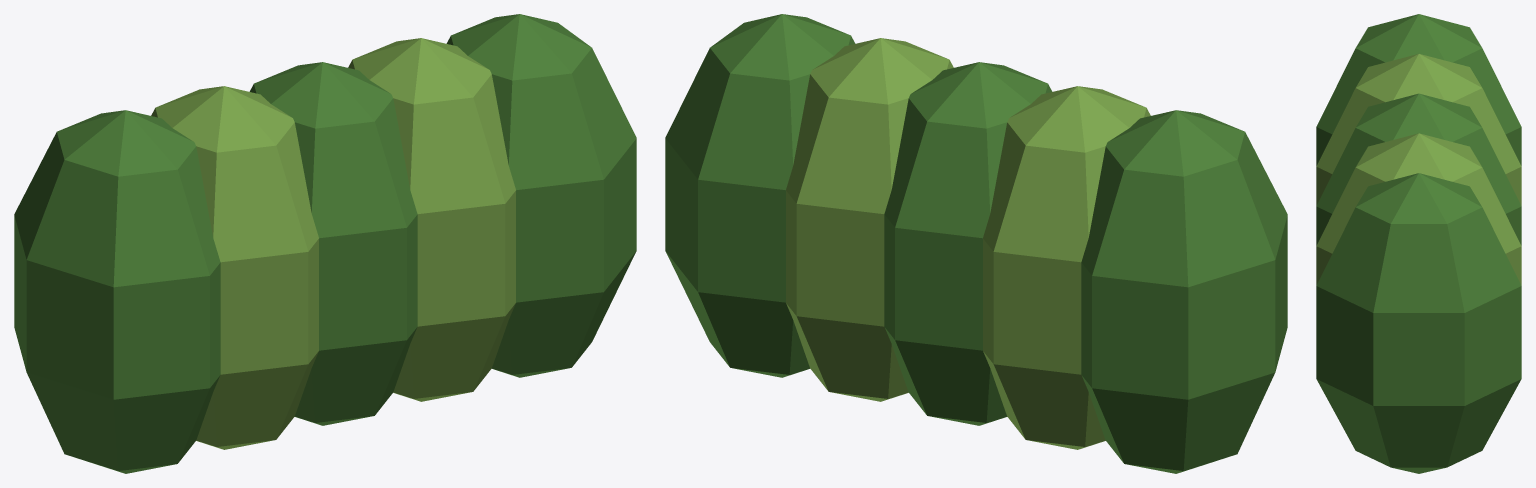
The model's file is Hedge.obj.
The picture shows the model from 3 angles, left to right: view 1: azimuth 30°, elevation 25°; view 2: azimuth 150°, elevation 25°; view 3: azimuth 270°, elevation 25°; orthographic projection. The views are drawn at different scales.
Parts seen in each view (by area): view 1: Hedge; view 2: Hedge; view 3: Hedge.
Part boxes in pixels (bbox=[...]): Hedge: bbox=[14, 14, 636, 473]; Hedge: bbox=[665, 14, 1287, 473]; Hedge: bbox=[1316, 14, 1521, 473].
Bounding box in the file's own units: 2.51 × 1.5 × 0.9272.
